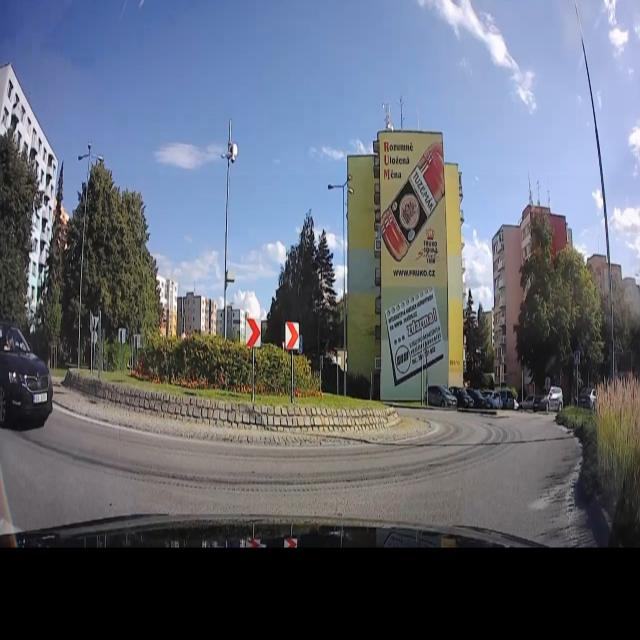Pedestrian crosswalk: (573, 348, 581, 368)
